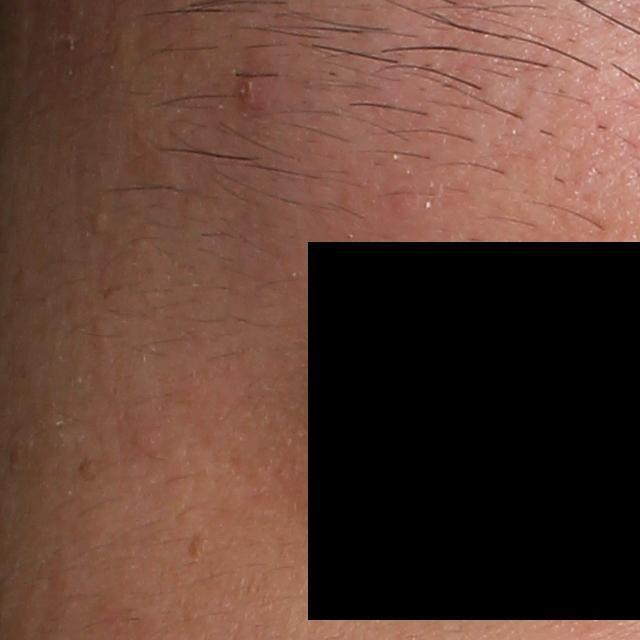papule: (229, 72, 266, 117)
